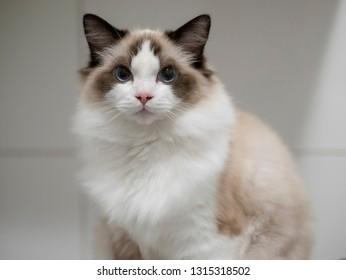ragdoll: (76, 1, 217, 139)
